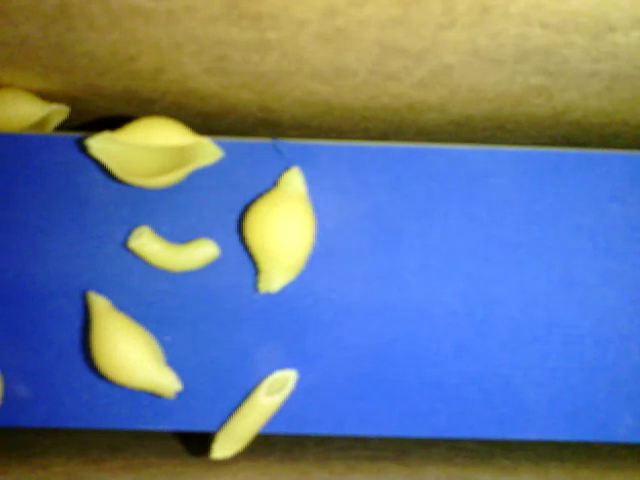elbow: (123, 226, 219, 274)
penne: (208, 364, 300, 464)
shell: (80, 290, 184, 402), (82, 113, 227, 188), (238, 164, 318, 295), (1, 84, 73, 130)
